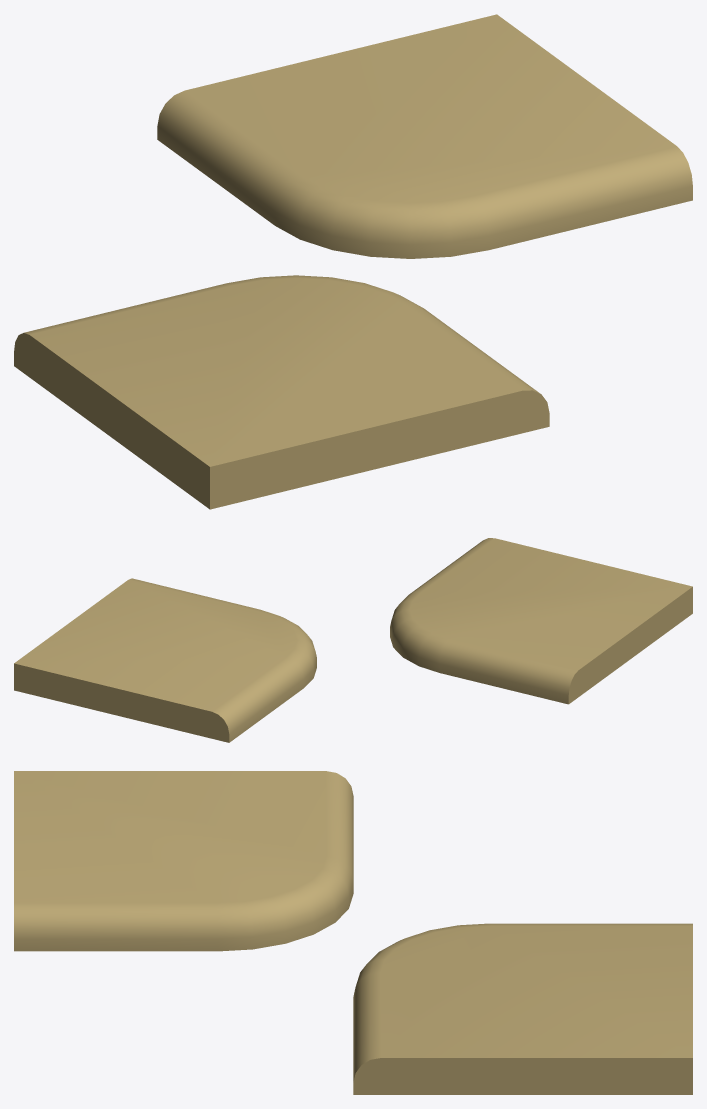
Rendered from Dark_Soil_Tile_1_3.fbx.
3 views of the same model, one above another, from view 1: azimuth 30°, elevation 25°; view 2: azimuth 150°, elevation 25°; view 3: azimuth 270°, elevation 25° (orthographic). The views are drawn at different scales.
Parts seen in each view (by area): view 1: Corner_1_3; view 2: Corner_1_3; view 3: Corner_1_3.
Part boxes in pixels (x1,y1,x2,y2): Corner_1_3: (14,14,692,509); Corner_1_3: (14,538,692,742); Corner_1_3: (14,771,692,1094).
Bounding box in the file's own units: 1 × 1 × 0.06.
